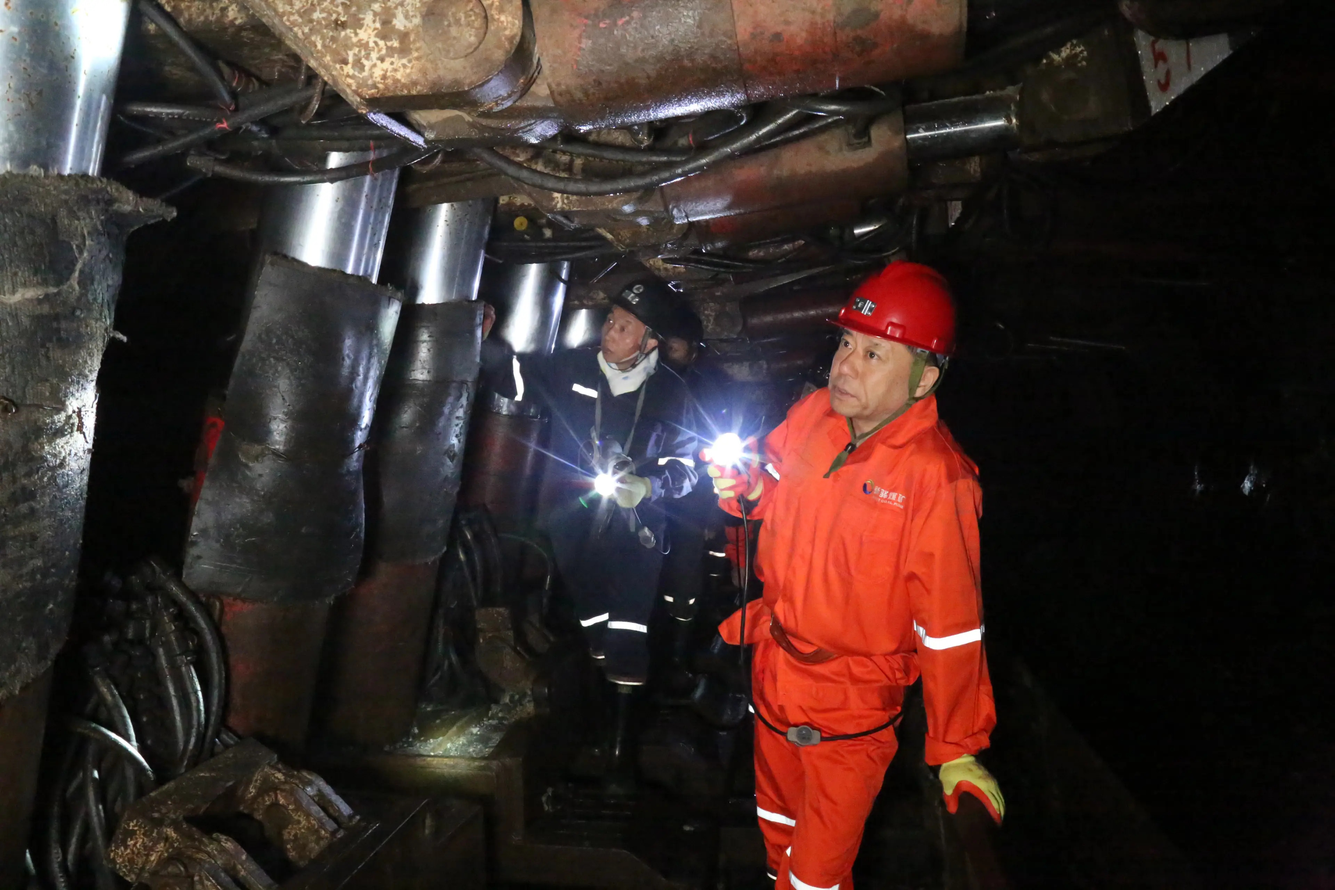device: (702, 260, 1005, 885), (481, 278, 698, 763)
